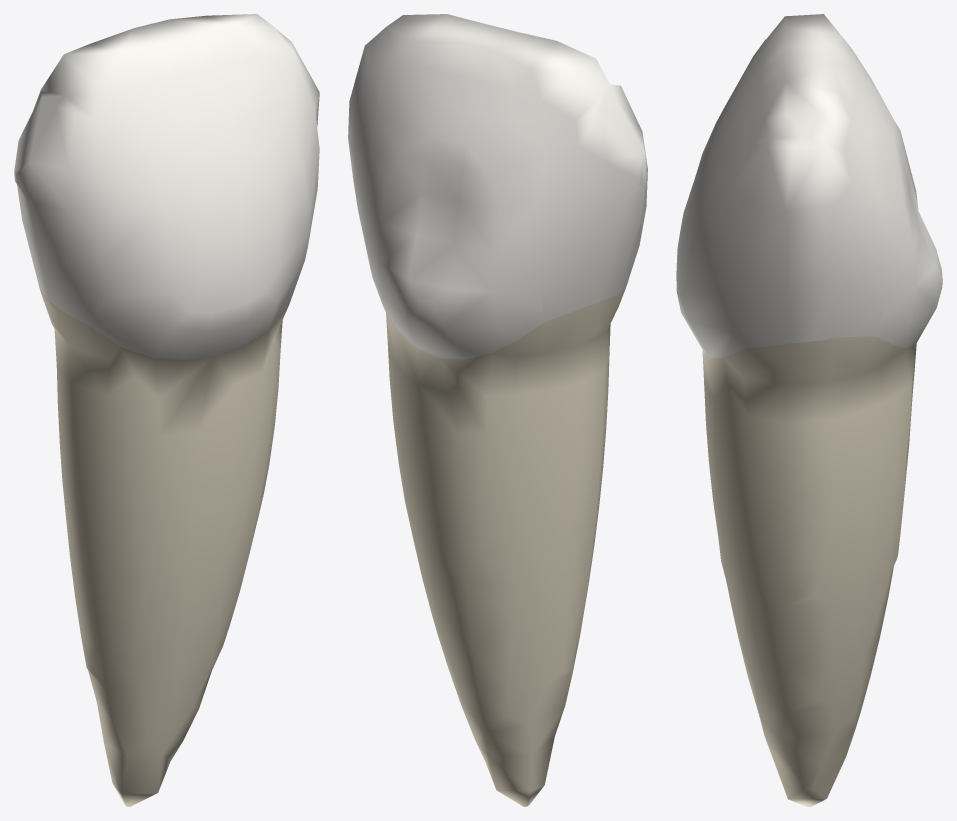
The picture shows the model from 3 angles, left to right: view 1: azimuth 30°, elevation 25°; view 2: azimuth 150°, elevation 25°; view 3: azimuth 270°, elevation 25°; orthographic projection.
Visible parts, largest first — view 1: root, V, I, D, M; view 2: root, L, I, D, M; view 3: root, M, I, V, L.
Part boxes in pixels (x1,y1,x2,y2): root: [39, 288, 288, 806]; V: [91, 76, 309, 360]; I: [41, 14, 295, 120]; D: [14, 90, 103, 326]; M: [284, 42, 319, 245]; root: [383, 288, 625, 806]; L: [365, 90, 549, 359]; I: [365, 14, 620, 130]; D: [539, 86, 647, 322]; M: [348, 46, 380, 259]; root: [702, 336, 916, 806]; M: [717, 146, 887, 348]; I: [744, 14, 875, 152]; V: [676, 57, 754, 357]; L: [860, 79, 942, 348].
Size of the model in its own units: 6.38 by 15.89 by 4.98.
